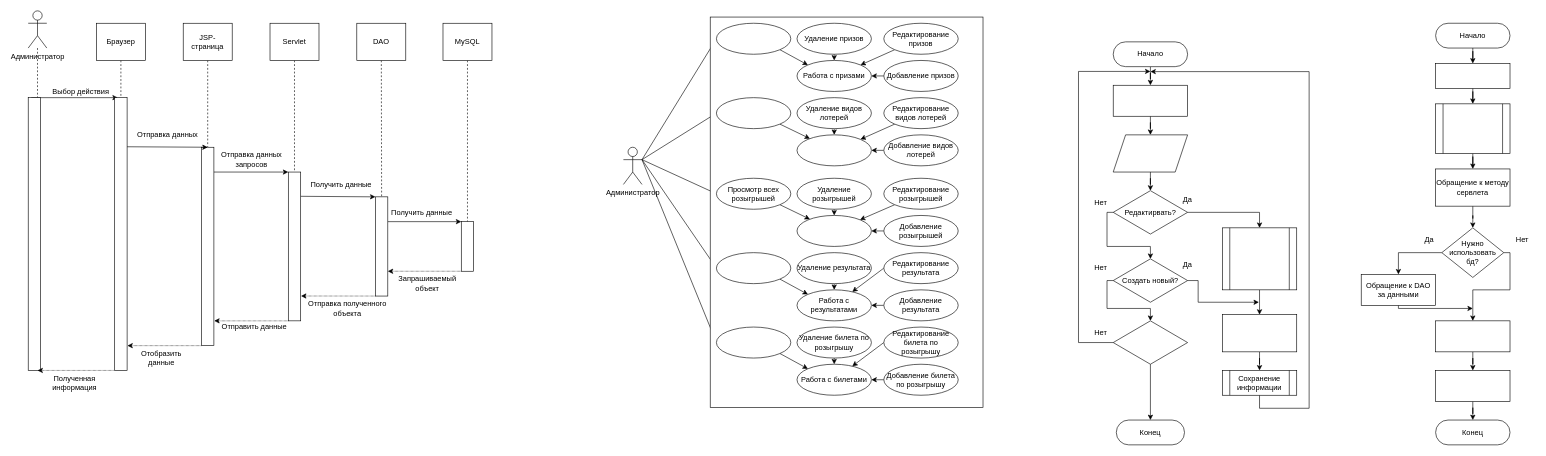
The diagram is 1546 pixels wide and 456 high, and some of its shapes have lost their labels. The centre of each missing label's shape, as x and y in pixels:
"Добавление на страницу редактирования информации о выбранном результате" belongs at (x=1259, y=258).
"Завершить работу" belongs at (x=1150, y=342).
"Определение сервлета, к которому направлен запрос" belongs at (x=1472, y=128).
"Отображение списка результатов" belongs at (x=1150, y=153).
"Отправка данных по запросу" belongs at (x=1472, y=385).
"Переход на страницу редактирования" belongs at (x=1259, y=333).
"Переход на страницу результатов" belongs at (x=1150, y=100).
"Получение запроса на сервере" belongs at (x=1472, y=75).
"Просмотр всех билетов" belongs at (x=753, y=342).
"Просмотр всех видов лотерей" belongs at (x=753, y=113).
"Просмотр всех результатов" belongs at (x=753, y=268).
"Просмотр списка призов" belongs at (x=753, y=38).
"Работа с видами лотерей" belongs at (x=833, y=150).
"Работа с розыгрышами" belongs at (x=833, y=230).
"Формирование ответа" belongs at (x=1472, y=336).
